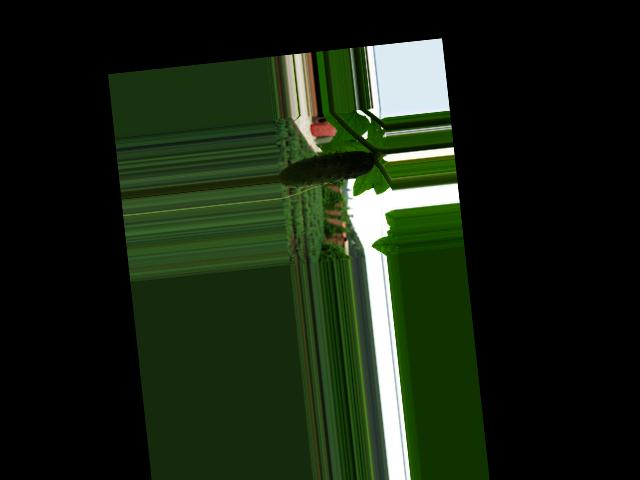cucumber: (276, 149, 375, 189)
